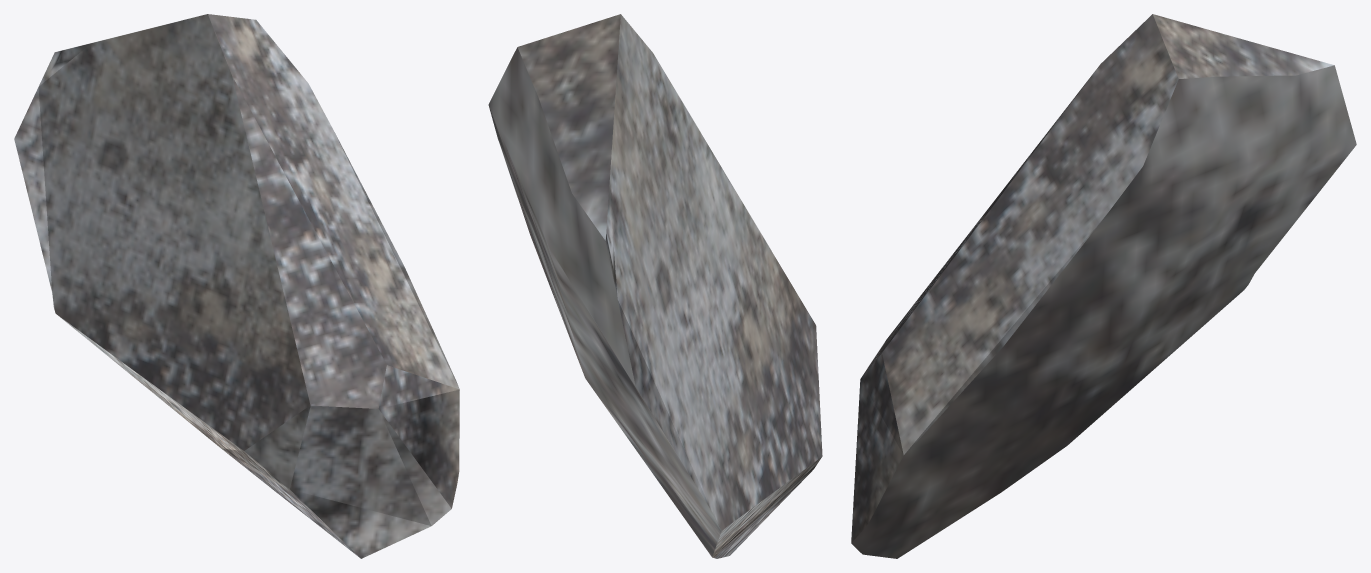
File: Asteroid_Large_001_02_008_03_027.fbx
3 renders of one model, left to right at view 1: azimuth 30°, elevation 25°; view 2: azimuth 150°, elevation 25°; view 3: azimuth 270°, elevation 25°, orthographic. The views are drawn at different scales.
Visible parts, largest first — view 1: Asteroid_Large_001_02_008_03_027; view 2: Asteroid_Large_001_02_008_03_027; view 3: Asteroid_Large_001_02_008_03_027.
Boxes of the visible parts, <box> form: Asteroid_Large_001_02_008_03_027: <box>14,14,459,558</box>; Asteroid_Large_001_02_008_03_027: <box>488,14,822,558</box>; Asteroid_Large_001_02_008_03_027: <box>851,14,1356,558</box>.
Bounding box in the file's own units: 3.76 × 6.72 × 5.88.
